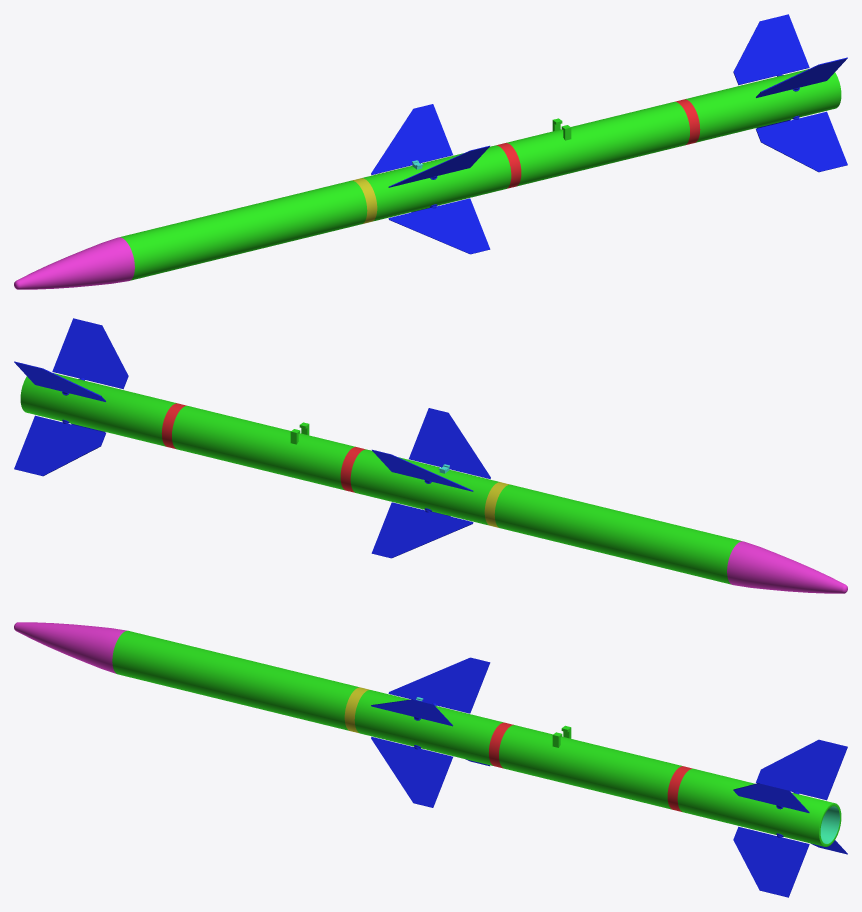
File: Aim-120 Model.fbx
The picture shows the model from 3 angles, top to bottom: view 1: azimuth 30°, elevation 25°; view 2: azimuth 150°, elevation 25°; view 3: azimuth 330°, elevation 25°; orthographic projection.
Visible parts, largest first — view 1: Body, Rear Wings, Frount Holders.005; view 2: Body, Rear Wings, Frount Holders.005; view 3: Body, Rear Wings, Frount Holders.005.
Part boxes in pixels (x1=…): Body: x1=14, y1=69, x2=841, y2=289; Rear Wings: x1=733, y1=14, x2=847, y2=172; Frount Holders.005: x1=371, y1=104, x2=490, y2=254; Body: x1=20, y1=373, x2=847, y2=593; Rear Wings: x1=14, y1=318, x2=128, y2=476; Frount Holders.005: x1=371, y1=408, x2=490, y2=558; Body: x1=14, y1=622, x2=841, y2=846; Rear Wings: x1=733, y1=739, x2=847, y2=897; Frount Holders.005: x1=371, y1=657, x2=490, y2=807.
Size of the model in its own units: 47.53 by 376 by 47.53.
